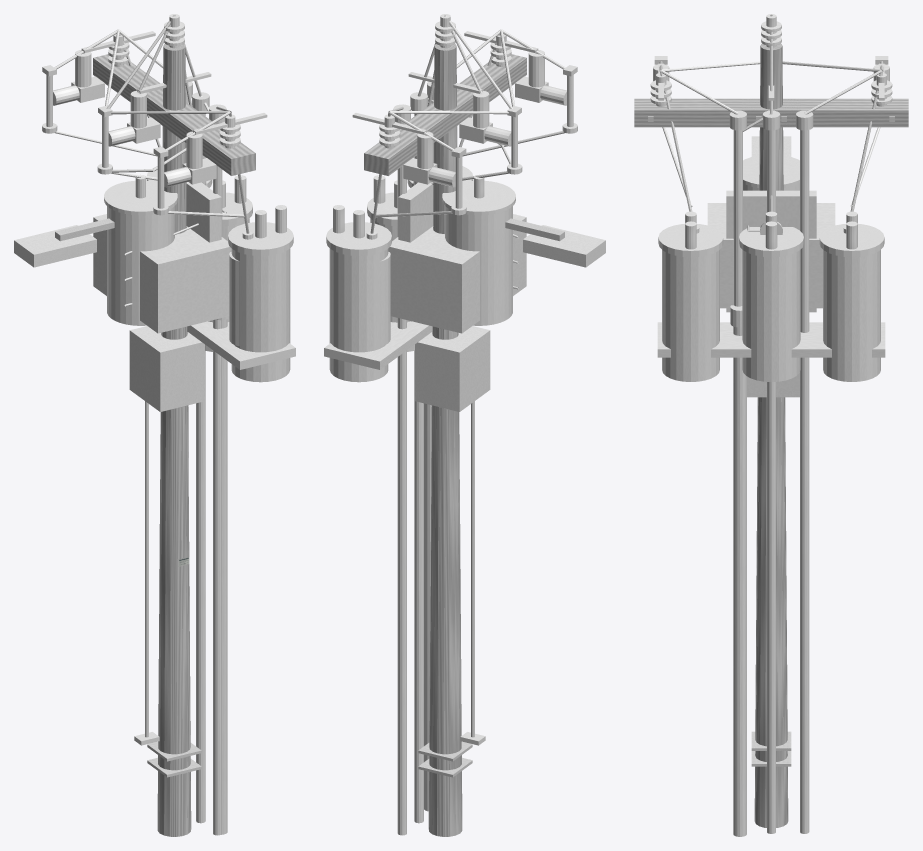
The model's file is distributionpole.obj.
3 renders of one model, left to right at view 1: azimuth 30°, elevation 25°; view 2: azimuth 150°, elevation 25°; view 3: azimuth 270°, elevation 25°, orthographic.
Visible parts, largest first — view 1: main, Recloser, Regulator2, Transformer, Control, Riser1, Riser2, Crossarm, SecondaryServiceRiser, LampHousing, CapacitorRack, SecondaryRack (+12 smaller); view 2: main, Recloser, Regulator0, Transformer, Riser0, Control, Riser1, Crossarm, SecondaryServiceRiser, LampHousing, CapacitorRack, SecondaryRack (+13 smaller); view 3: main, Regulator0, Regulator2, Regulator1, SecondaryServiceRiser, Riser0, Crossarm, Riser1, Recloser, SecondaryRack, CapacitorRack, Riser2 (+4 smaller).
Boxes of the visible parts, box(x1,y1,x2,y2) form: main: box(147, 44, 201, 836); Recloser: box(93, 214, 231, 333); Regulator2: box(228, 222, 293, 382); Transformer: box(104, 180, 177, 325); Control: box(129, 326, 204, 411); Riser1: box(192, 92, 209, 823); Riser2: box(209, 104, 226, 835); Crossarm: box(93, 54, 255, 175); SecondaryServiceRiser: box(216, 316, 229, 834); LampHousing: box(14, 225, 96, 267); CapacitorRack: box(187, 321, 295, 369); SecondaryRack: box(186, 182, 221, 242); main: box(418, 44, 472, 836); Recloser: box(388, 214, 526, 333); Regulator0: box(326, 222, 391, 382); Transformer: box(442, 180, 515, 325); Riser0: box(393, 104, 410, 835); Control: box(415, 326, 490, 411); Riser1: box(410, 92, 427, 823); Crossarm: box(364, 54, 526, 175); SecondaryServiceRiser: box(424, 403, 431, 811); LampHousing: box(523, 225, 605, 267); CapacitorRack: box(324, 321, 432, 369); SecondaryRack: box(398, 182, 433, 242); main: box(751, 43, 791, 827); Regulator0: box(819, 224, 884, 381); Regulator2: box(658, 224, 723, 381); Regulator1: box(739, 227, 803, 381); SecondaryServiceRiser: box(730, 305, 746, 836); Riser0: box(796, 110, 813, 833); Crossarm: box(634, 98, 908, 127); Riser1: box(762, 110, 780, 833); Recloser: box(707, 203, 835, 308); SecondaryRack: box(726, 190, 816, 312); CapacitorRack: box(657, 322, 885, 357); Riser2: box(729, 110, 746, 306).
Bounding box in the file's own units: 2.21 × 7.66 × 2.36.
